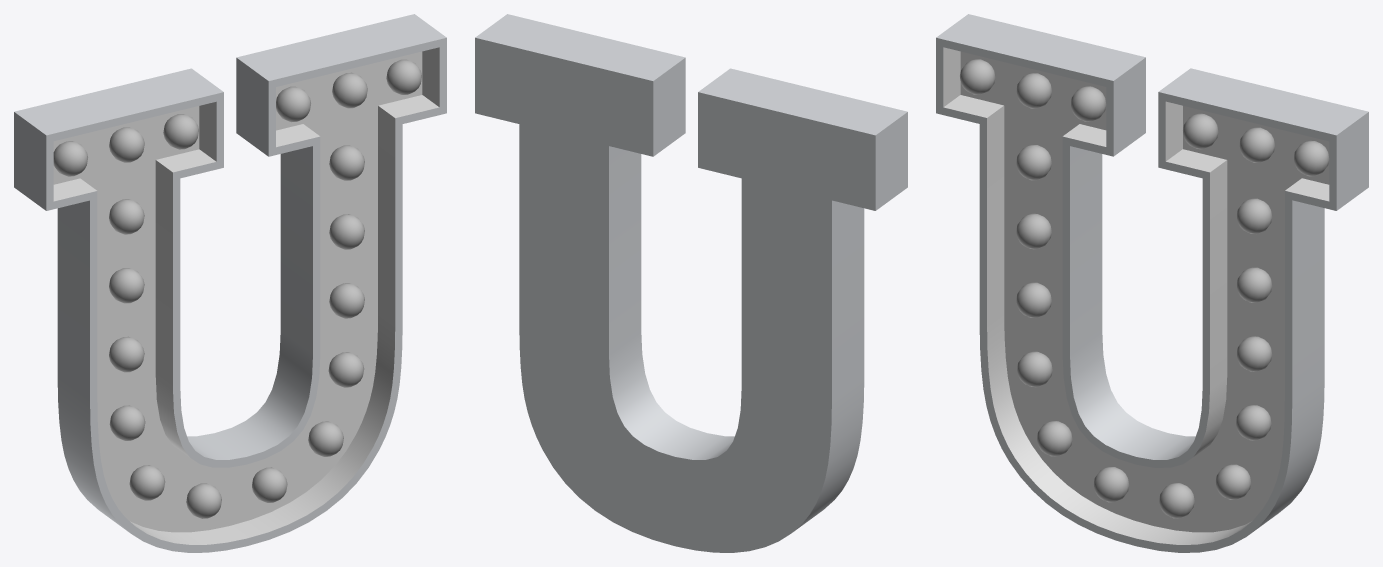
The model's file is LettersBulb01_U.FBX.
3 renders of one model, left to right at view 1: azimuth 30°, elevation 25°; view 2: azimuth 150°, elevation 25°; view 3: azimuth 330°, elevation 25°, orthographic.
Parts seen in each view (by area): view 1: LettersBulb01_U; view 2: LettersBulb01_U; view 3: LettersBulb01_U.
Boxes of the visible parts, x1=… form: LettersBulb01_U: x1=14, y1=14, x2=446, y2=552; LettersBulb01_U: x1=475, y1=14, x2=907, y2=552; LettersBulb01_U: x1=936, y1=14, x2=1368, y2=552.
Size of what is drawn, in the model's own units: 1.11 by 1.22 by 0.1563.
